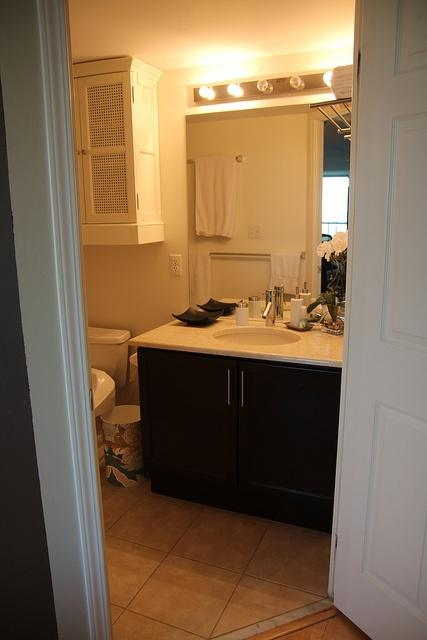Lemari: (70, 57, 140, 246)
